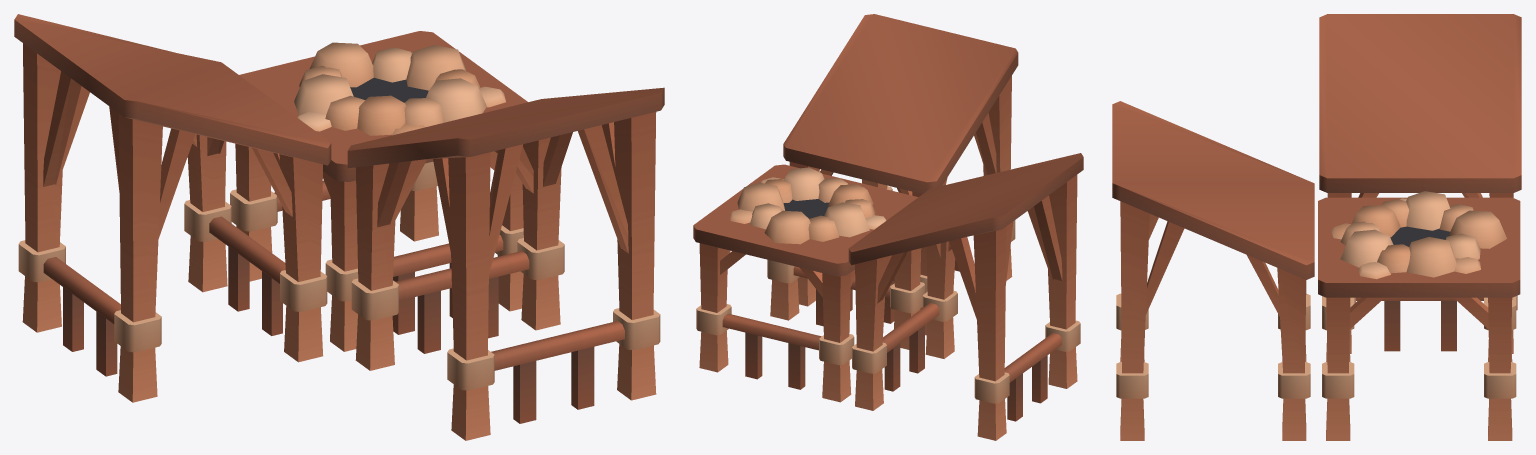
The model's file is golf.fbx.
The picture shows the model from 3 angles, left to right: view 1: azimuth 30°, elevation 25°; view 2: azimuth 150°, elevation 25°; view 3: azimuth 270°, elevation 25°; orthographic projection. The views are drawn at different scales.
Parts seen in each view (by area): view 1: structure-fence; view 2: structure-fence; view 3: structure-fence.
Part boxes in pixels (x1=…): structure-fence: x1=14, y1=14, x2=664, y2=440; structure-fence: x1=693, y1=14, x2=1083, y2=440; structure-fence: x1=1112, y1=14, x2=1521, y2=440.
Size of the model in its own units: 5.04 by 3.52 by 5.06.
Materials: 2 (2 with a texture image).
